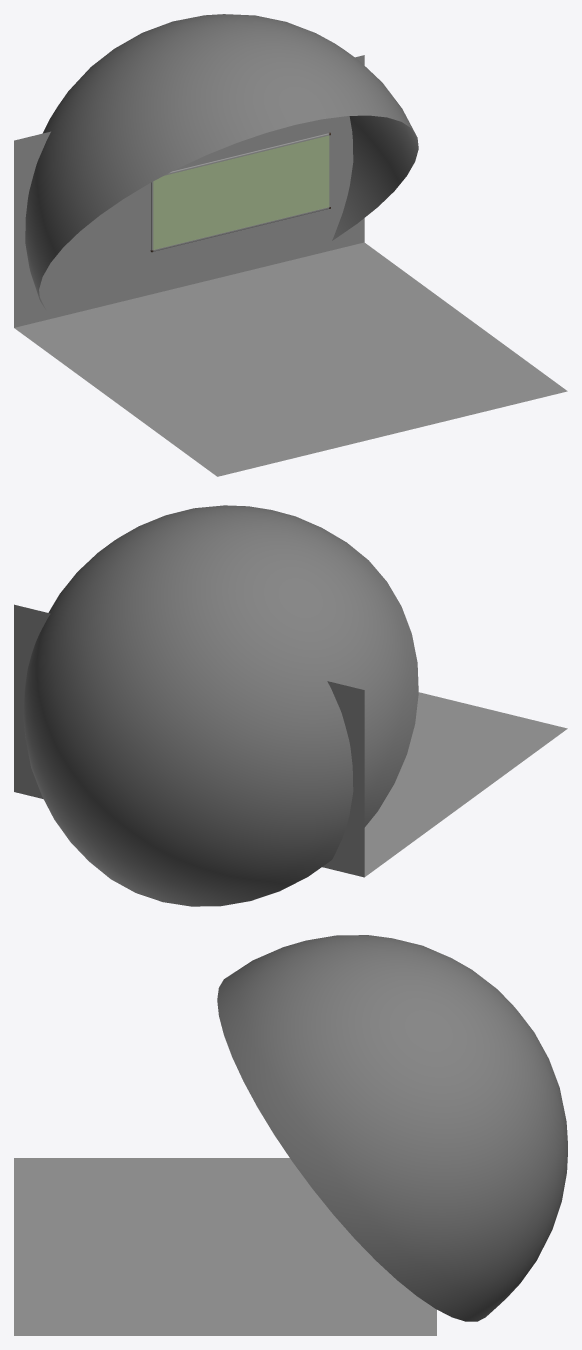
File: scene_props_01.FBX
3 renders of one model, top to bottom at view 1: azimuth 30°, elevation 25°; view 2: azimuth 150°, elevation 25°; view 3: azimuth 270°, elevation 25°, orthographic. The views are drawn at different scales.
Parts seen in each view (by area): view 1: Walls, Dome, BlackBoards; view 2: Dome, Walls; view 3: Dome, Walls.
Part boxes in pixels (box(x1,y1,x2,y2)): Walls: box(14, 55, 567, 476); Dome: box(25, 14, 418, 309); BlackBoards: box(150, 132, 330, 252); Dome: box(23, 505, 418, 906); Walls: box(14, 604, 567, 877); Dome: box(217, 935, 567, 1321); Walls: box(14, 1158, 436, 1335).
Bounding box in the file's own units: 597 × 773 × 527.
